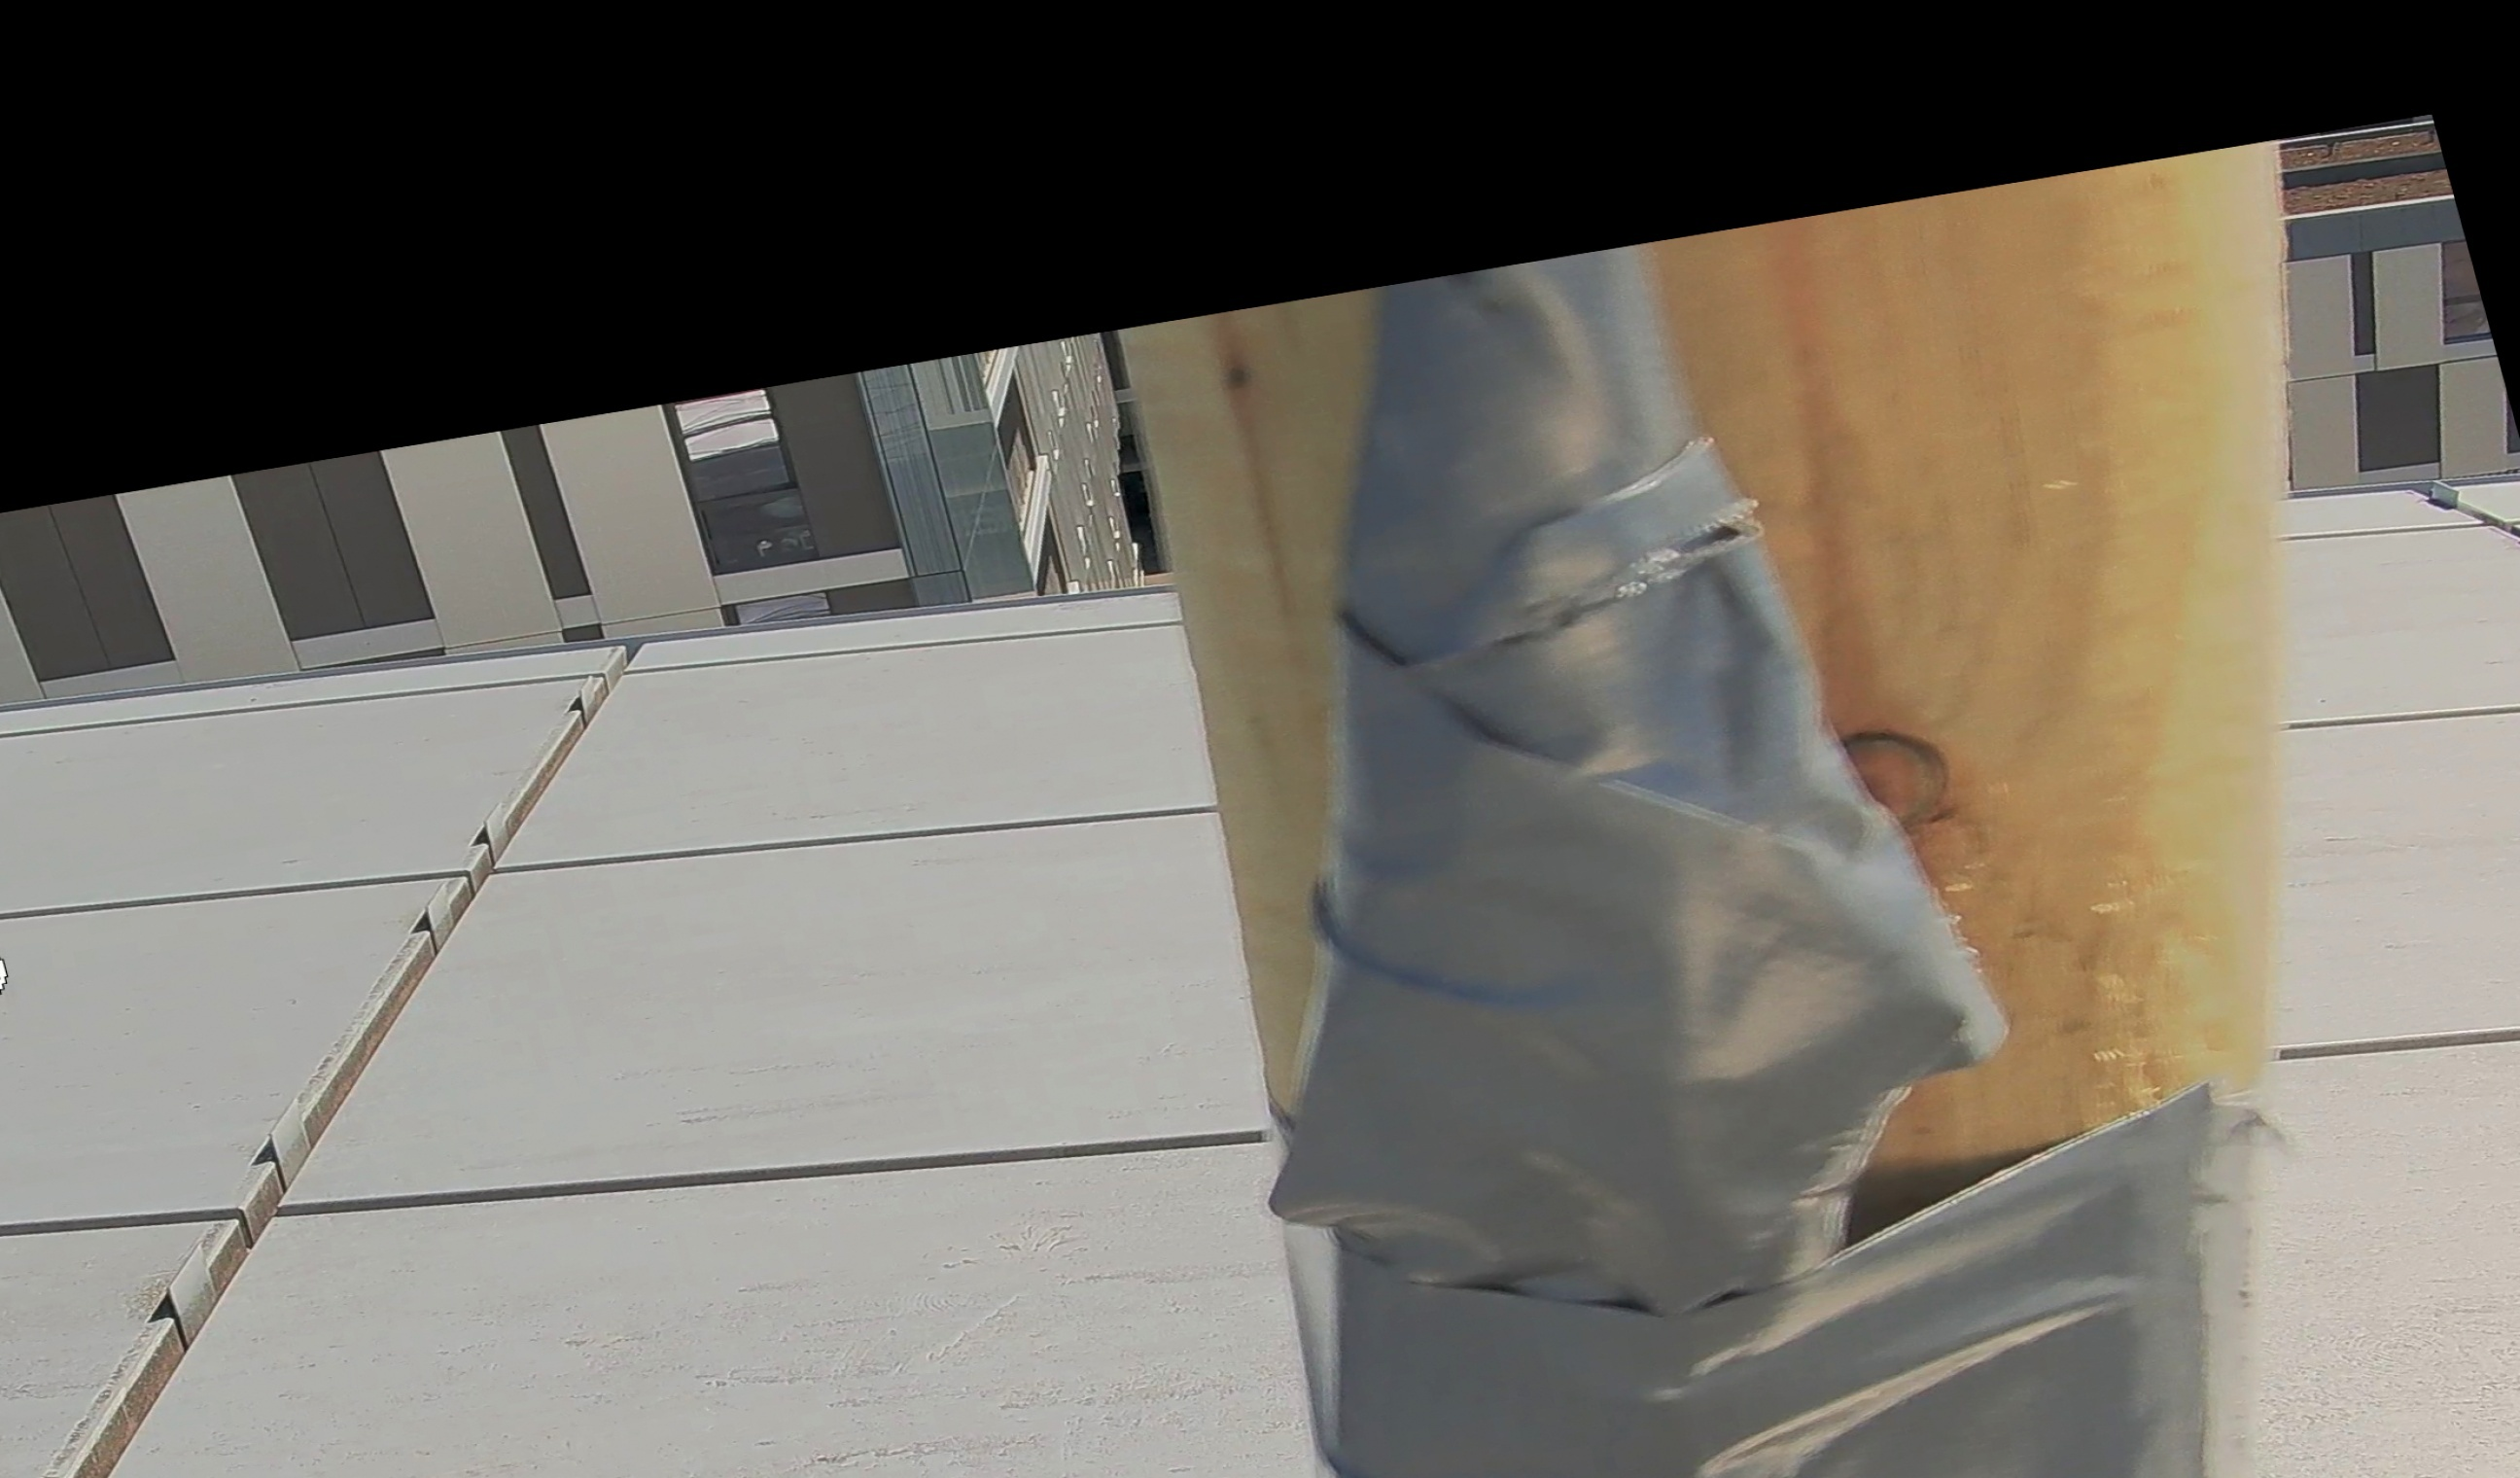Other: (1032, 252, 2161, 1443)
